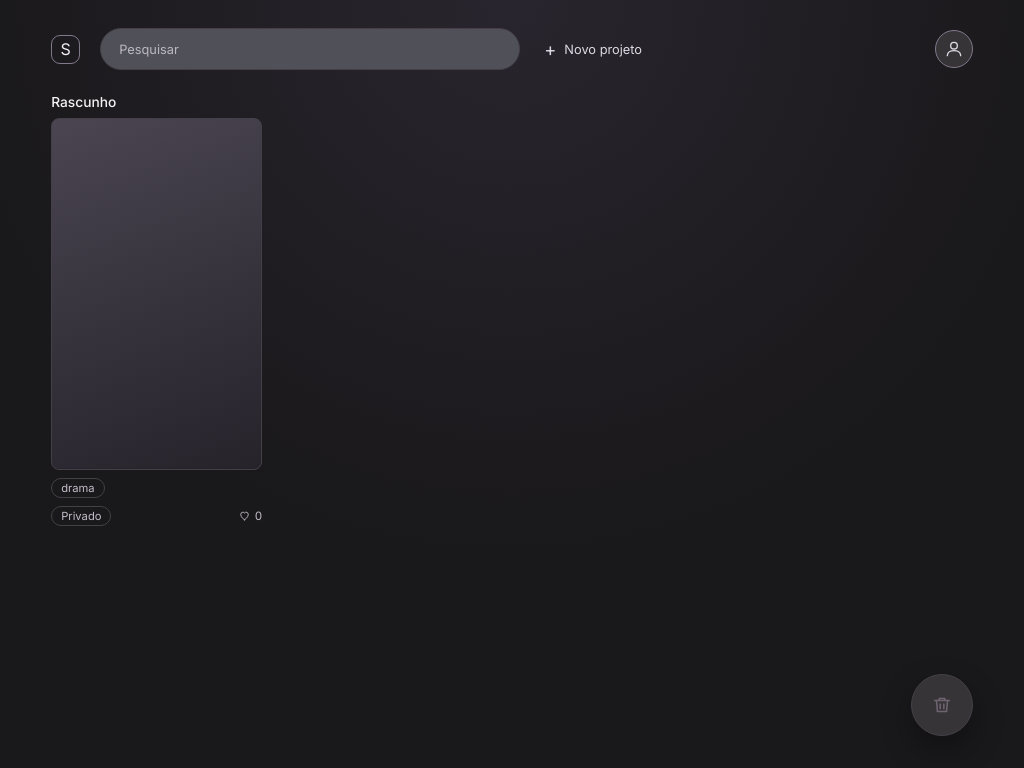
Test: criar e editar › edita um projeto privado já preenchido e troca o cartão pelo salvo
Expected: the heading "Rascunho" is shown, [51,94,116,110]
Click the button titled "Clique para selecionar, duplo clique para abrir": (157, 294) [51,118,262,470]
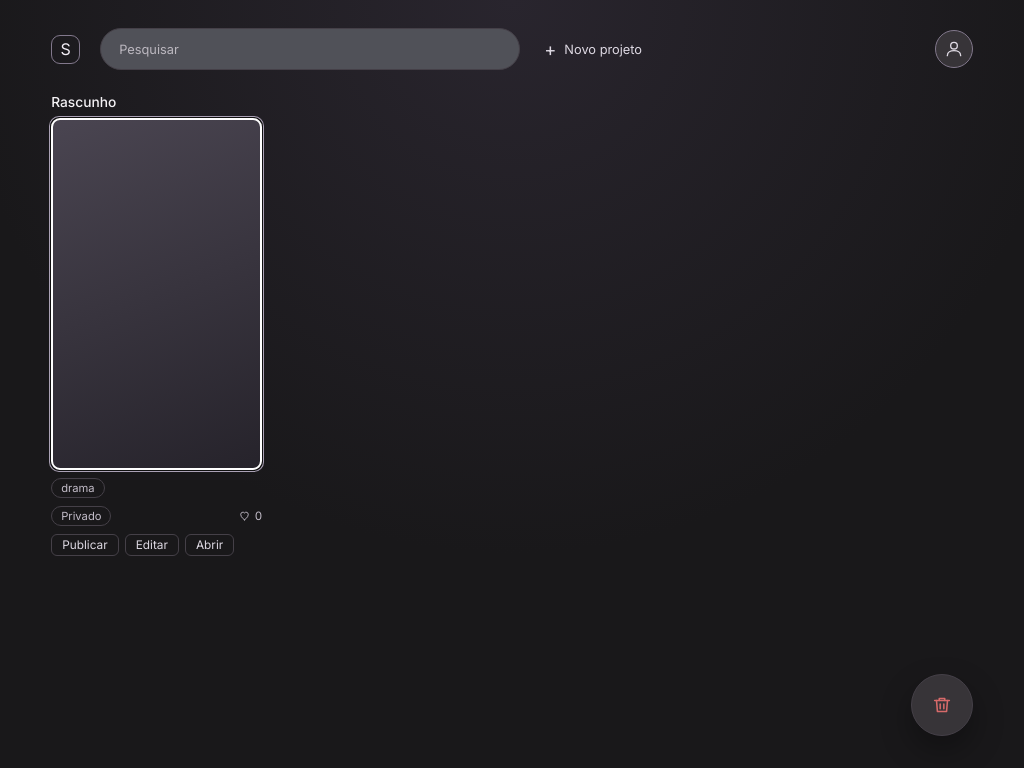
Click the button "Editar": (152, 544) [125,534,179,556]
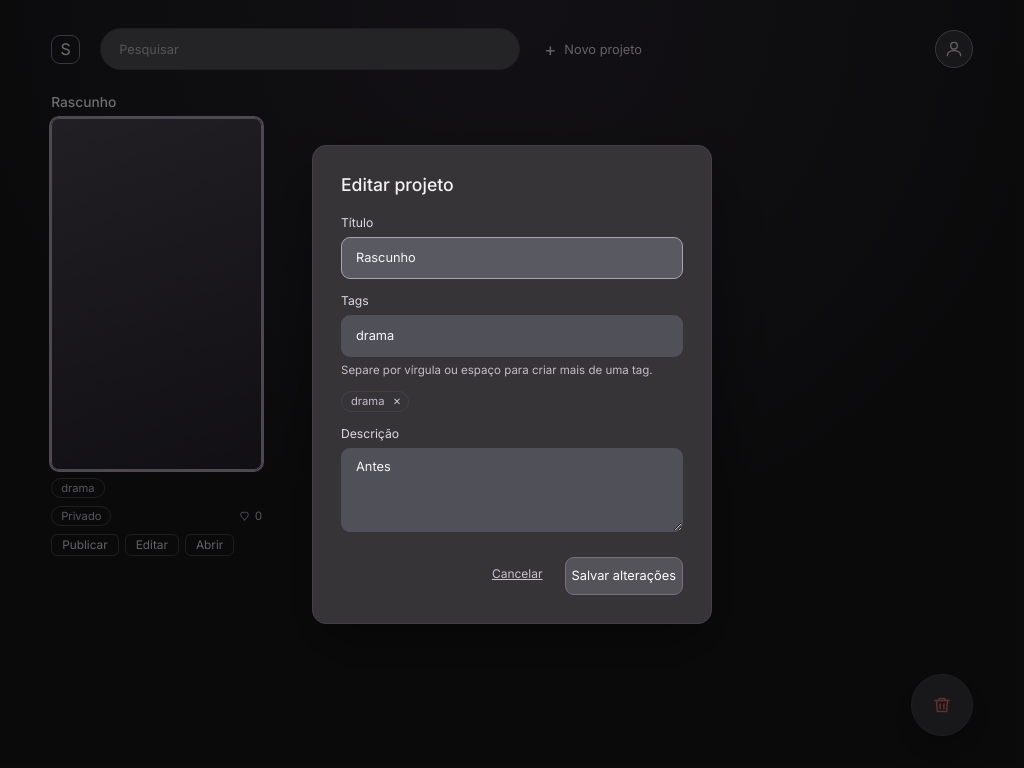
Expected: the field labelled "Tags" holds "drama", [341,314,683,356]
Expected: the text box labelled "Descrição" holds "Antes", [341,448,683,532]
Replace the text in the field labelled "Título" with "Versão final": (512, 258) [341,236,683,278]
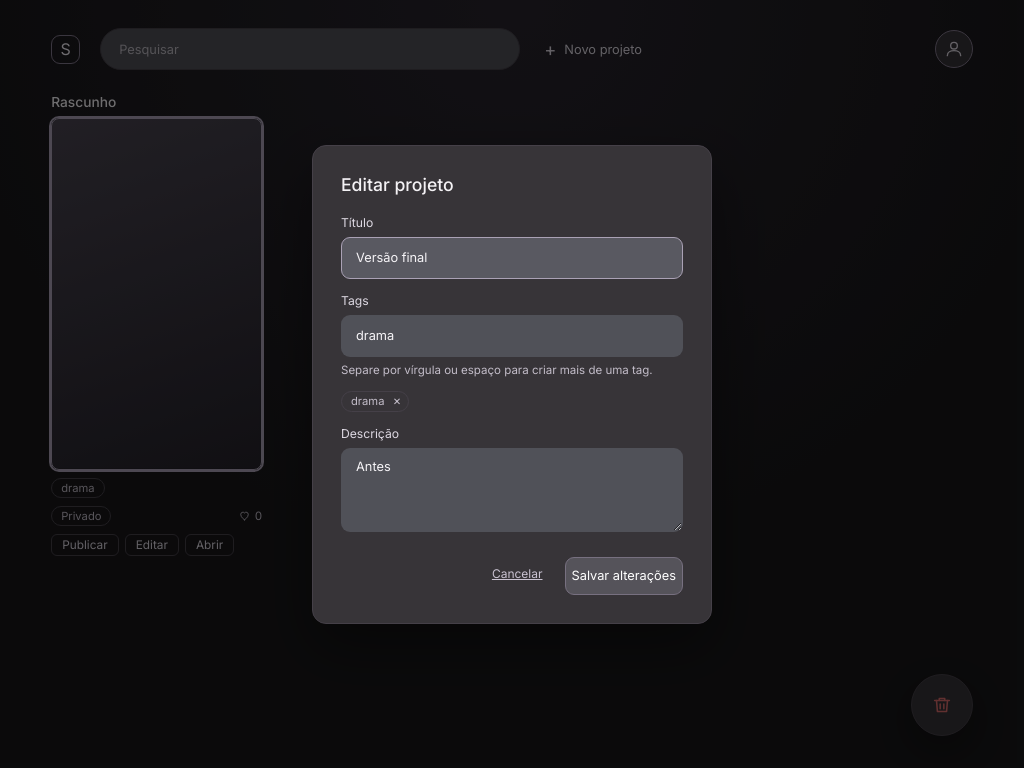
Click the button "Salvar alterações": (624, 576) [564,556,683,594]
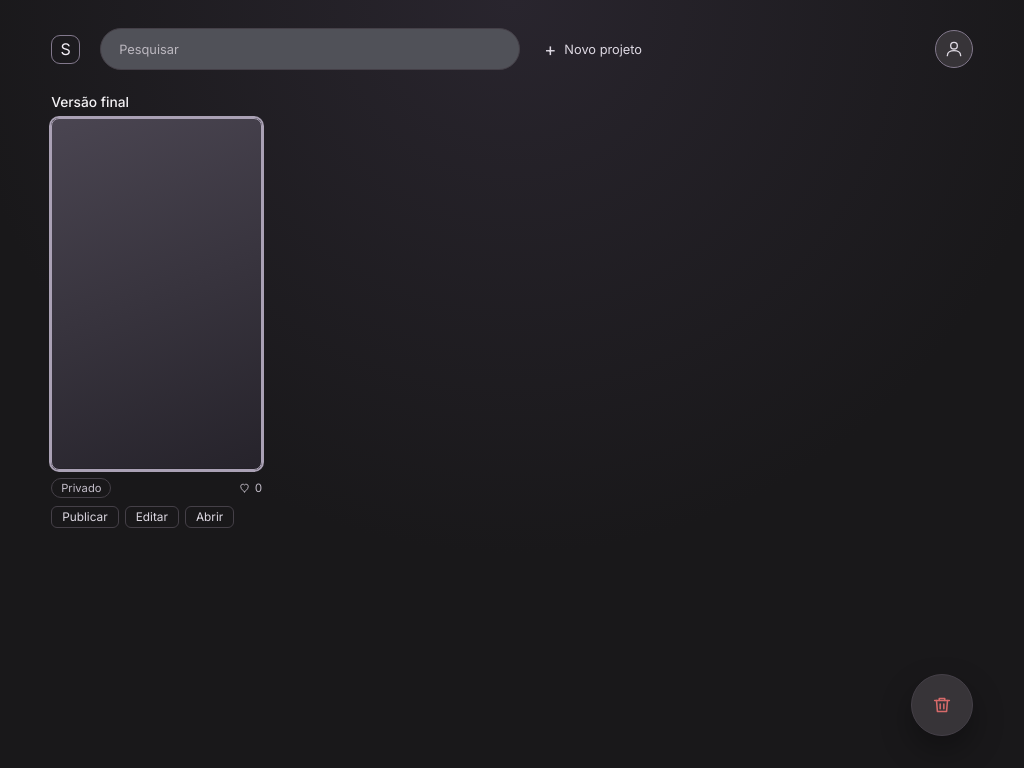
Expected: the heading "Versão final" is shown, [51,94,129,110]
